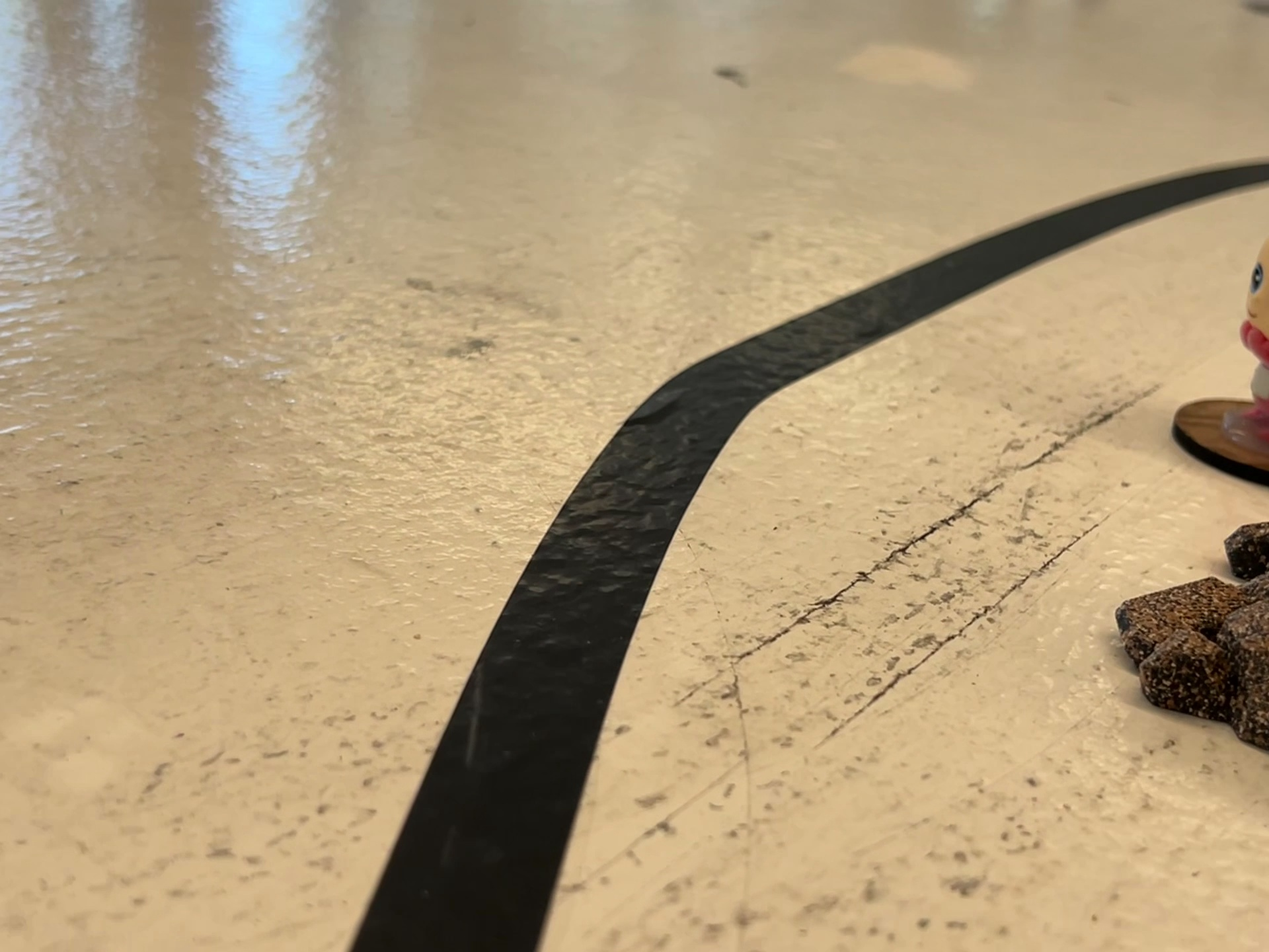teletubby: (1239, 239, 1268, 442)
